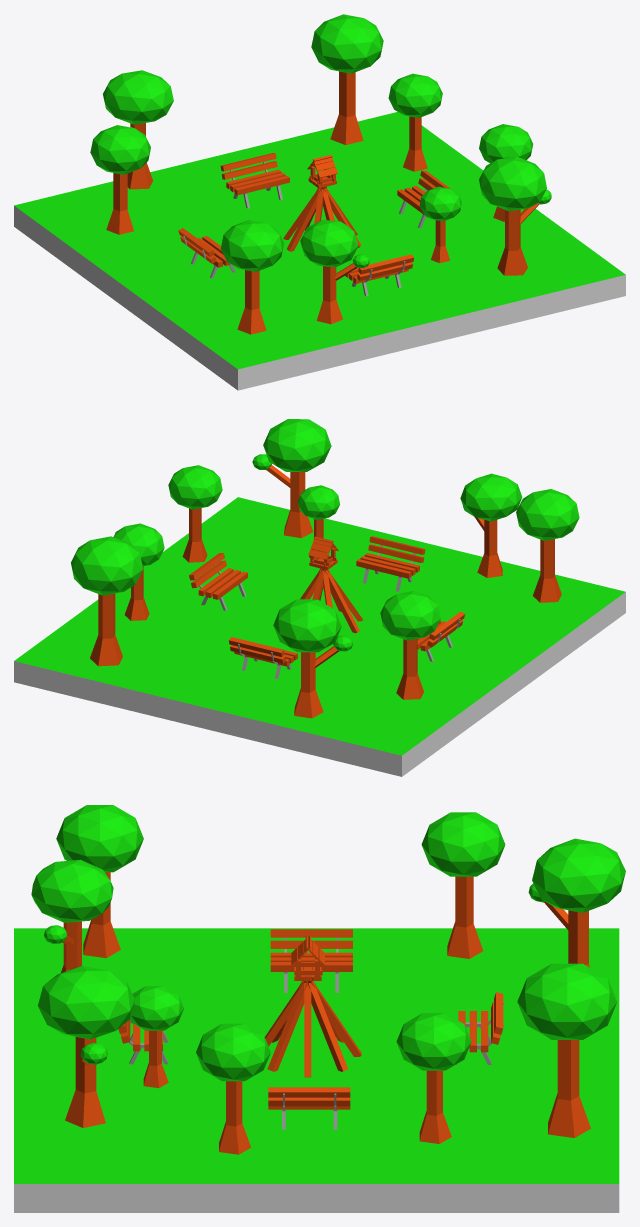
The picture shows the model from 3 angles, top to bottom: view 1: azimuth 30°, elevation 25°; view 2: azimuth 150°, elevation 25°; view 3: azimuth 270°, elevation 25°; orthographic projection. The views are drawn at different scales.
Parts seen in each view (by area): view 1: Cube.001; view 2: Cube.001; view 3: Cube.001.
Boxes of the visible parts, x1,y1,x2,y2 form: Cube.001: (14, 14, 625, 390); Cube.001: (14, 419, 625, 776); Cube.001: (14, 805, 625, 1212).
Size of the model in its own units: 200 by 71.73 by 202.
